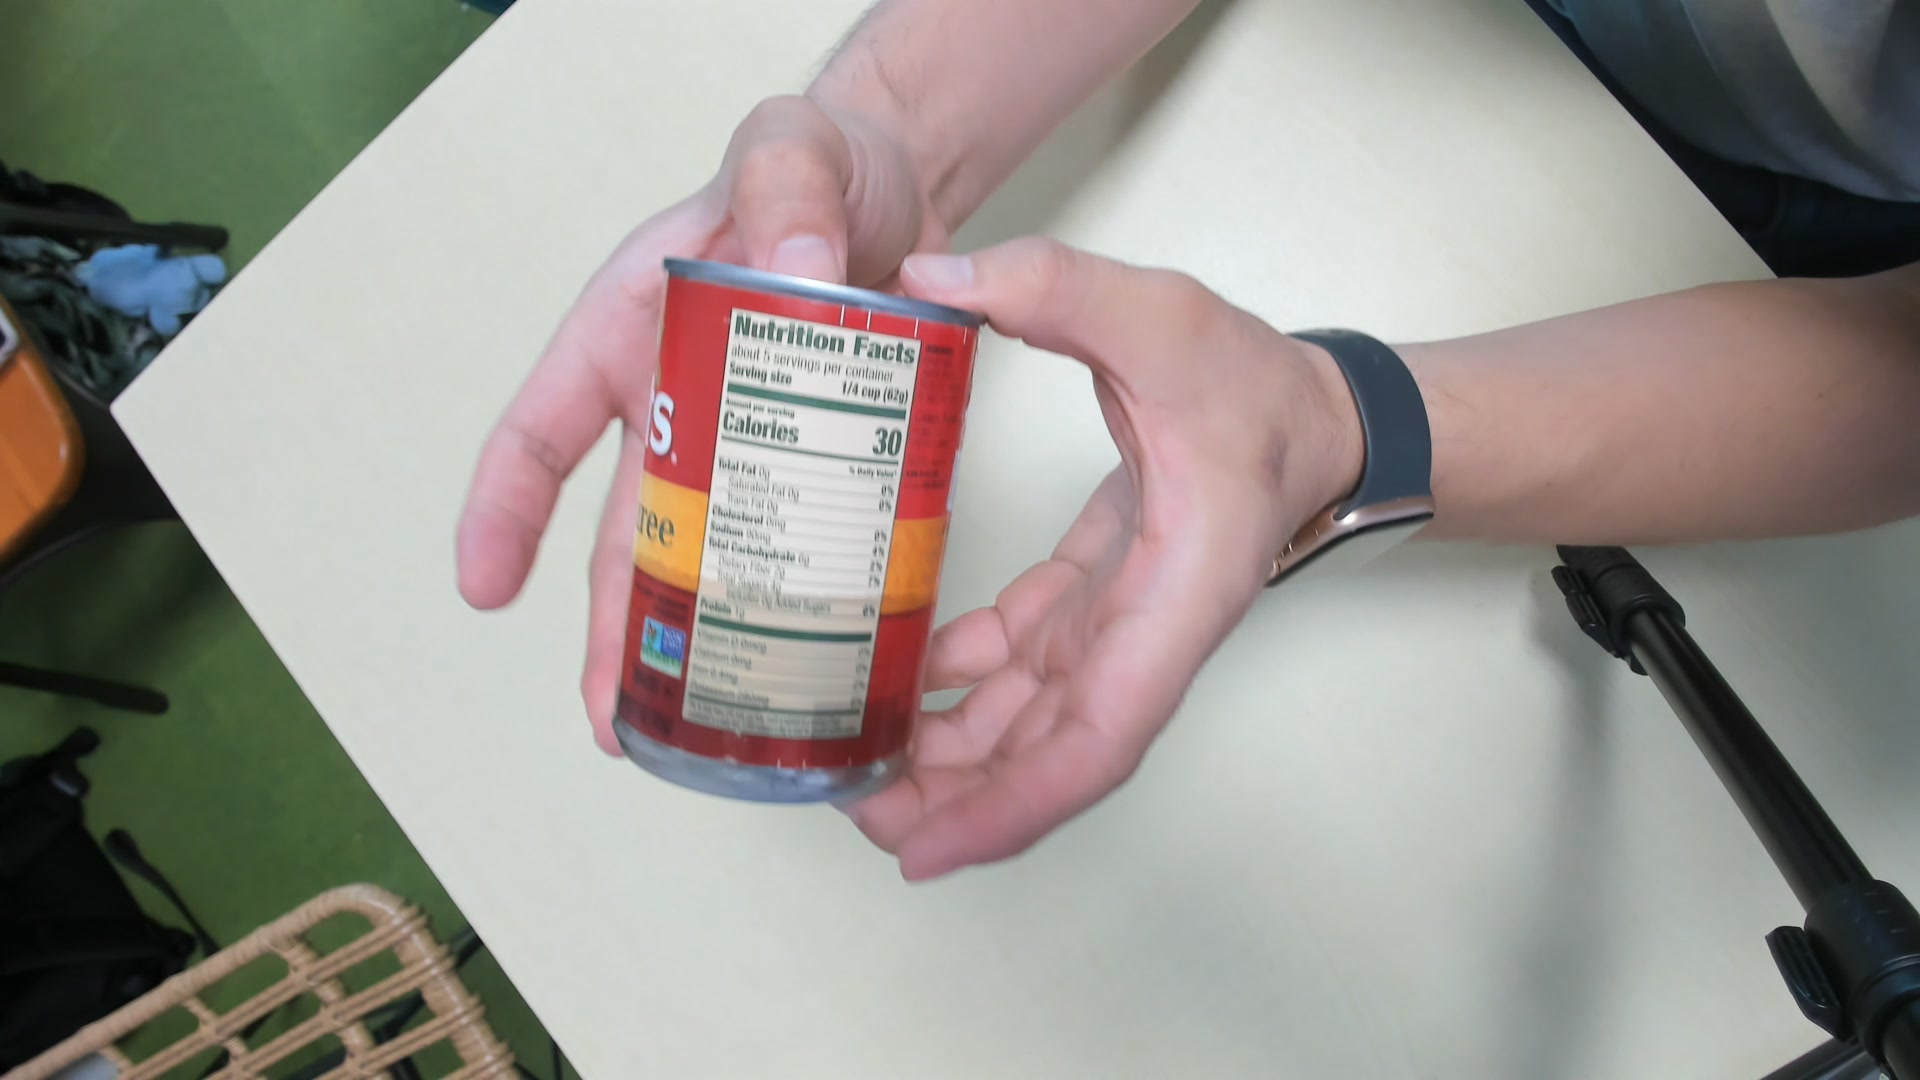OtherSauceDressing_300-399g_NonHalal_NonHealthy: (605, 243, 982, 796)
